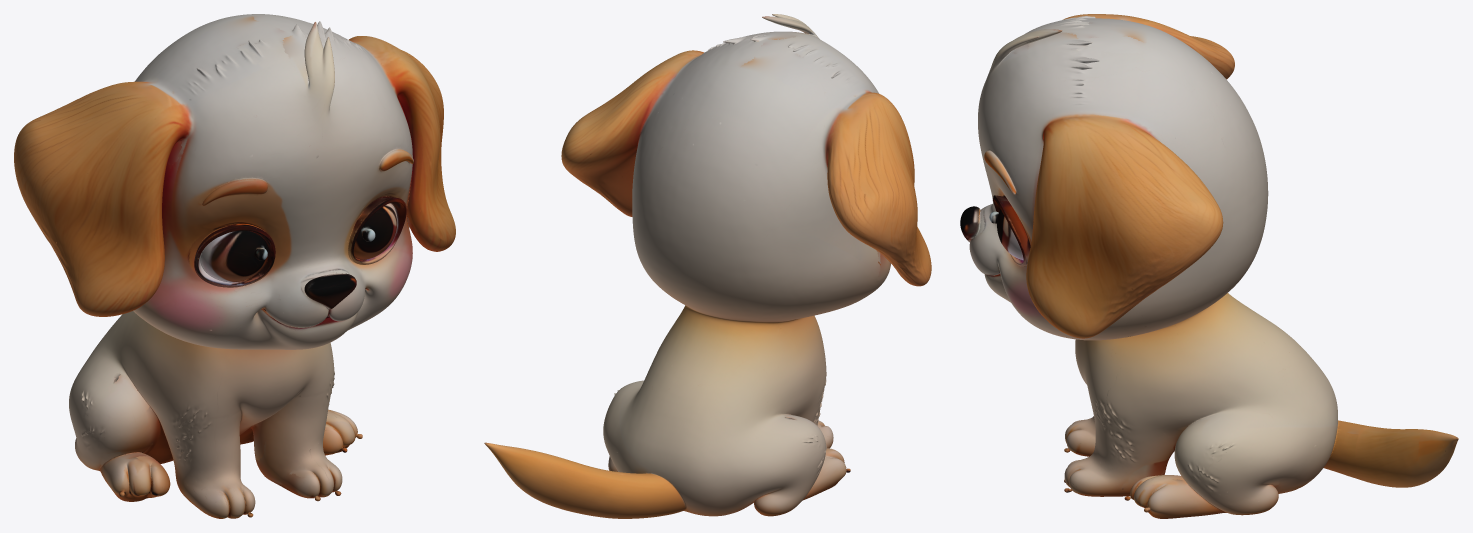
File: dog.glb
3 views of the same model, side by side, from view 1: azimuth 30°, elevation 25°; view 2: azimuth 150°, elevation 25°; view 3: azimuth 270°, elevation 25° (orthographic). The views are drawn at different scales.
Parts seen in each view (by area): view 1: texture_pbr_v128; view 2: texture_pbr_v128; view 3: texture_pbr_v128.
Boxes of the visible parts, x1=… form: texture_pbr_v128: x1=14, y1=14, x2=455, y2=518; texture_pbr_v128: x1=484, y1=14, x2=931, y2=518; texture_pbr_v128: x1=960, y1=14, x2=1458, y2=518.
Bounding box in the file's own units: 0.7908 × 0.9087 × 0.9107.
1 material, 1 textured.
